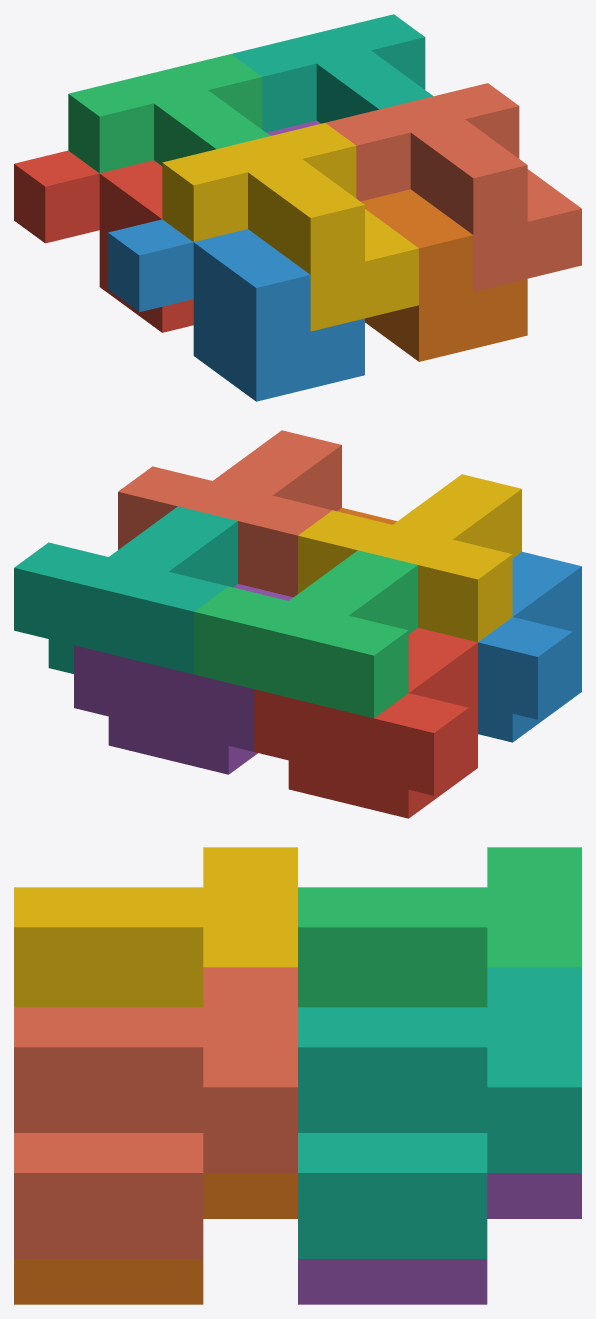
The model's file is tiling.obj.
3 views of the same model, one above another, from view 1: azimuth 30°, elevation 25°; view 2: azimuth 150°, elevation 25°; view 3: azimuth 270°, elevation 25° (orthographic). The views are drawn at different scales.
Visible parts, largest first — view 1: copy_1_domain_4, copy_1_domain_8, copy_1_domain_2, copy_1_domain_3, copy_1_domain_7, copy_1_domain_6, copy_1_domain_1; view 2: copy_1_domain_3, copy_1_domain_1, copy_1_domain_7, copy_1_domain_4, copy_1_domain_8, copy_1_domain_5, copy_1_domain_2; view 3: copy_1_domain_7, copy_1_domain_8, copy_1_domain_3, copy_1_domain_4, copy_1_domain_5, copy_1_domain_6.
Part boxes in pixels (x1,y1,x2,y2): copy_1_domain_4: (162, 123, 418, 331); copy_1_domain_8: (325, 83, 581, 291); copy_1_domain_2: (108, 219, 364, 401); copy_1_domain_3: (68, 54, 270, 173); copy_1_domain_7: (231, 14, 433, 132); copy_1_domain_6: (360, 189, 527, 361); copy_1_domain_1: (14, 150, 193, 332); copy_1_domain_3: (194, 550, 417, 718); copy_1_domain_1: (254, 628, 477, 818); copy_1_domain_7: (14, 506, 237, 674); copy_1_domain_4: (298, 474, 521, 642); copy_1_domain_8: (118, 430, 341, 597); copy_1_domain_5: (74, 584, 293, 774); copy_1_domain_2: (478, 551, 581, 742); copy_1_domain_7: (298, 967, 581, 1258); copy_1_domain_8: (14, 967, 297, 1258); copy_1_domain_3: (298, 847, 581, 1007); copy_1_domain_4: (14, 847, 297, 1007); copy_1_domain_5: (298, 1173, 581, 1304); copy_1_domain_6: (14, 1173, 297, 1304).
Bounding box in the file's own units: 7 × 3 × 6.
